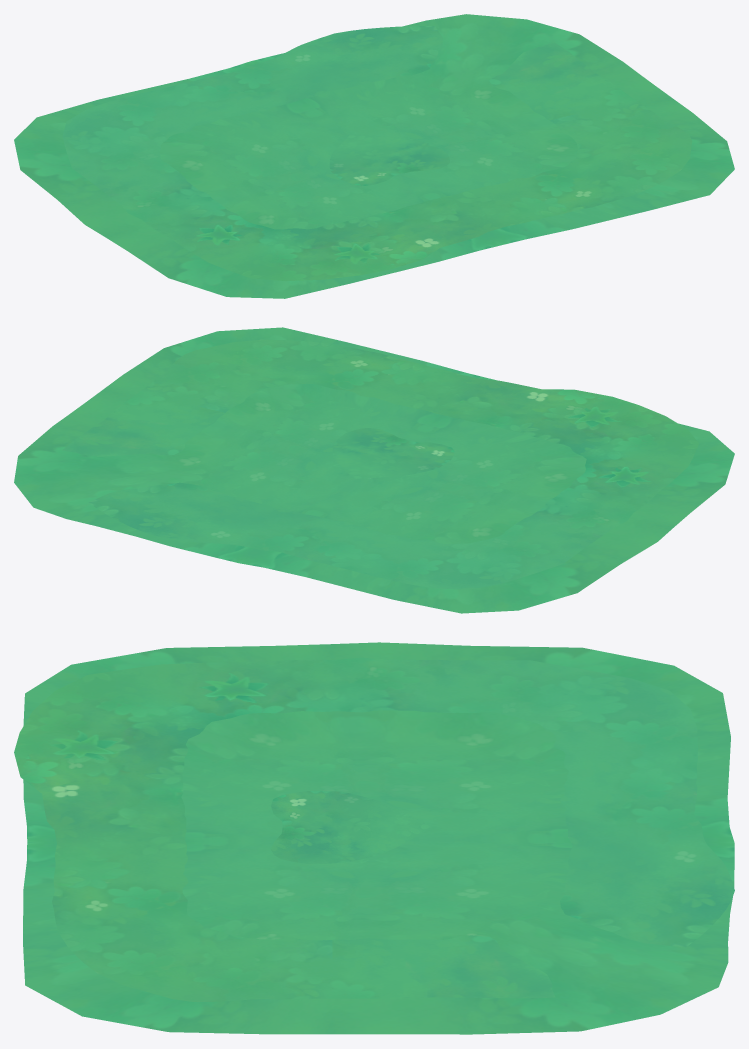
Rendered from CBS_ground.FBX.
3 views of the same model, one above another, from view 1: azimuth 30°, elevation 25°; view 2: azimuth 150°, elevation 25°; view 3: azimuth 270°, elevation 25° (orthographic). The views are drawn at different scales.
Visible parts, largest first — view 1: CBS_Ground; view 2: CBS_Ground; view 3: CBS_Ground.
Part boxes in pixels (x1=…): CBS_Ground: x1=14, y1=14, x2=734, y2=298; CBS_Ground: x1=14, y1=327, x2=734, y2=613; CBS_Ground: x1=14, y1=642, x2=734, y2=1034.
Bounding box in the file's own units: 11917 × 143 × 9261.
